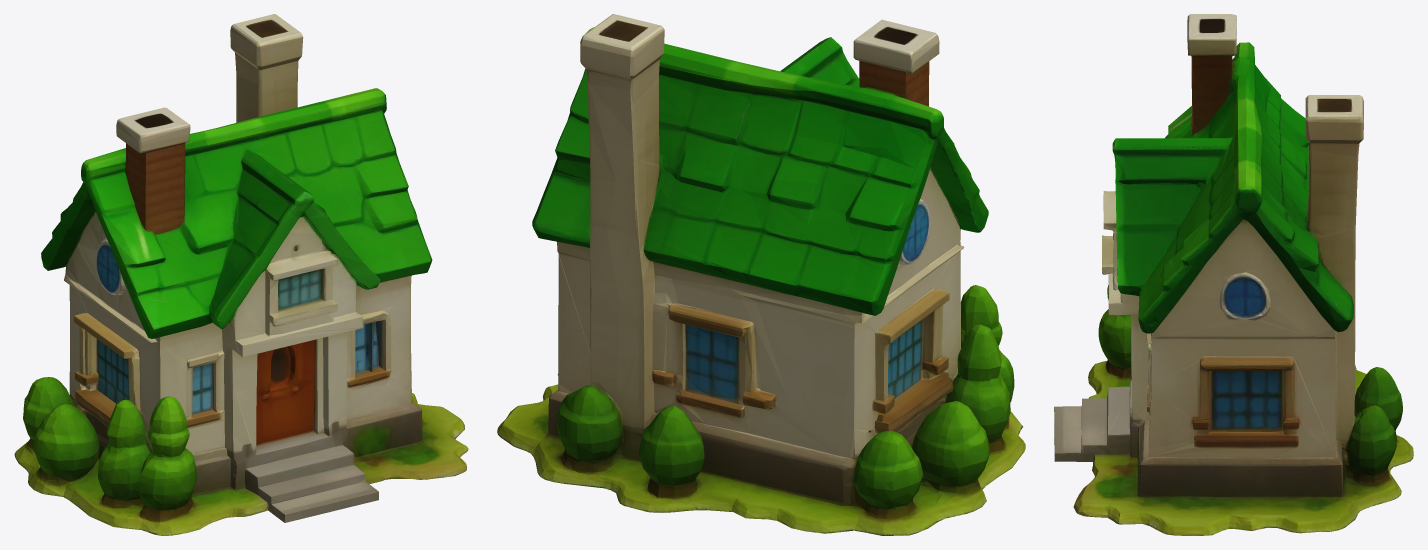
The model's file is green_roof_house.glb.
The picture shows the model from 3 angles, left to right: view 1: azimuth 30°, elevation 25°; view 2: azimuth 150°, elevation 25°; view 3: azimuth 270°, elevation 25°; orthographic projection. The views are drawn at different scales.
Parts seen in each view (by area): view 1: geometry_0; view 2: geometry_0; view 3: geometry_0.
Boxes of the visible parts, x1,y1,x2,y2 form: geometry_0: (14, 14, 468, 535); geometry_0: (497, 14, 1025, 535); geometry_0: (1054, 14, 1413, 535).
Bounding box in the file's own units: 0.9984 × 0.9076 × 0.7893.
1 material, 1 textured.
